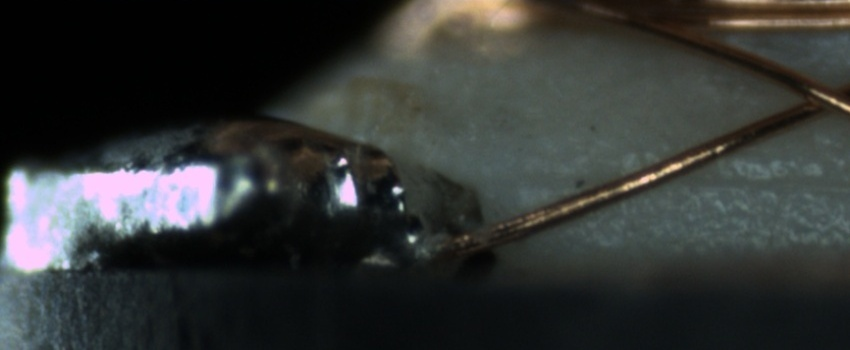CL: (776, 68, 848, 125)
DL: (515, 147, 850, 210)
